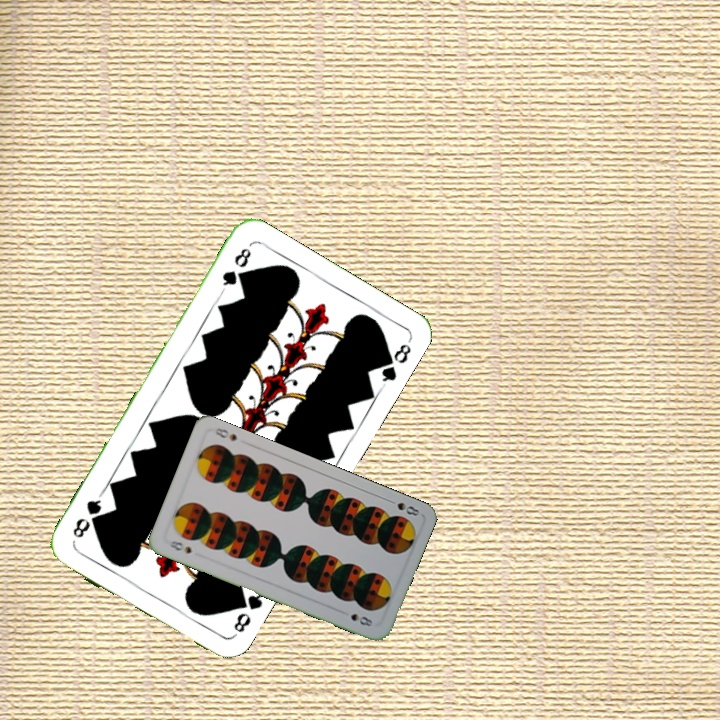G8: (229, 586, 266, 640), (217, 243, 254, 295)
S8: (383, 495, 422, 519), (163, 536, 194, 556)
